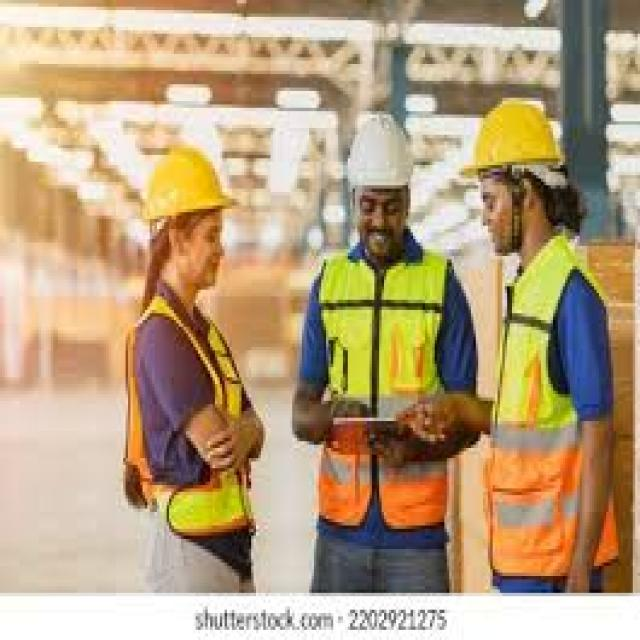Reflective-Jacket: (297, 232, 461, 532), (476, 232, 599, 576), (114, 286, 263, 549)
Safety-Helmet: (454, 84, 580, 196), (130, 125, 242, 239), (333, 101, 428, 202)
